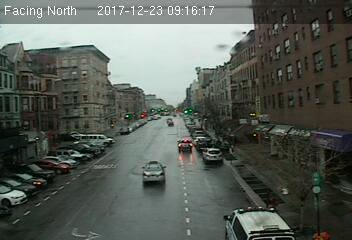car: (142, 161, 166, 184), (201, 147, 223, 164), (176, 139, 193, 153)
police: (224, 205, 296, 240)
